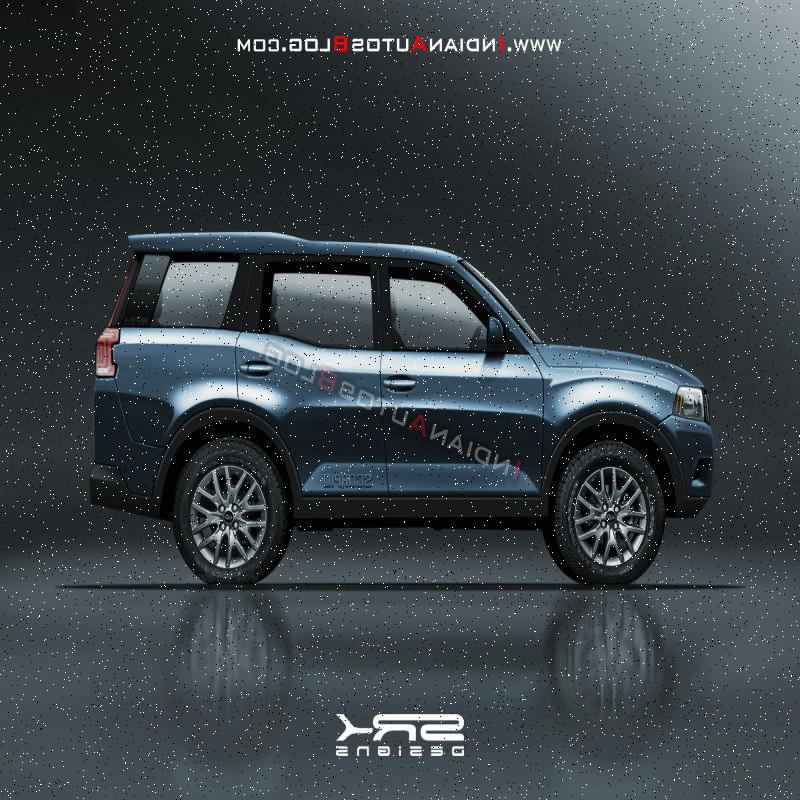car: (101, 198, 726, 604)
